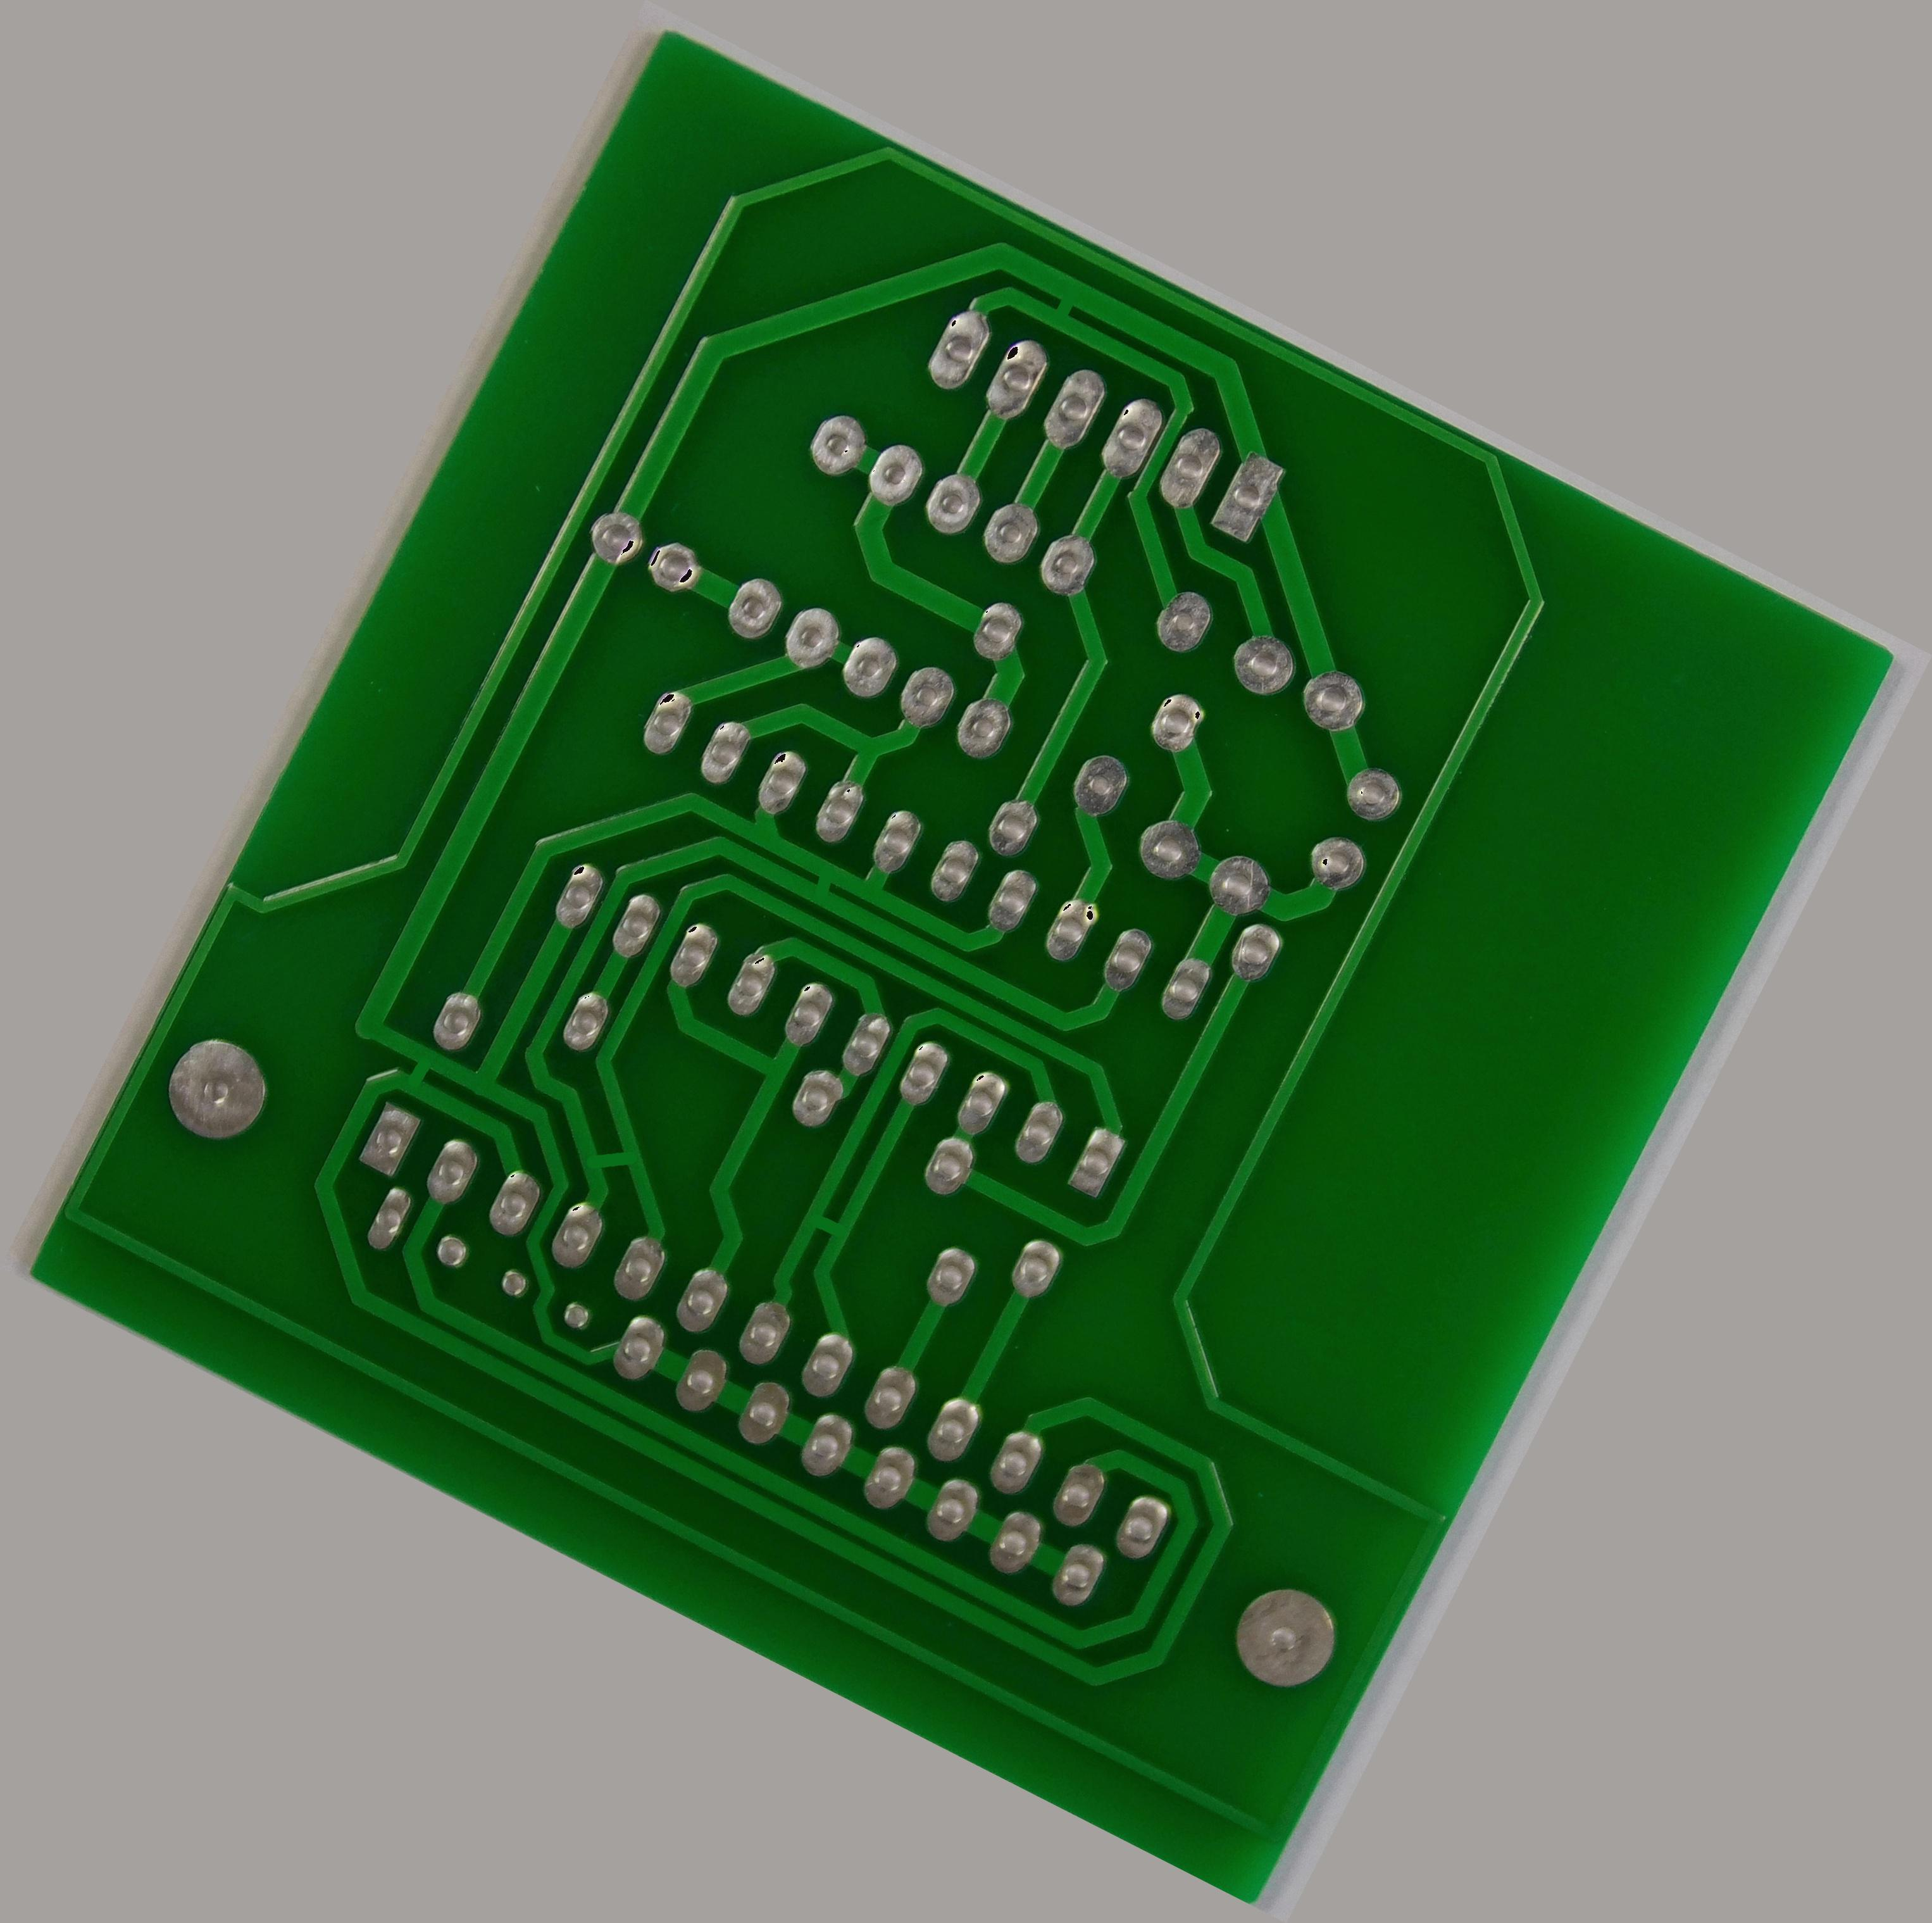short: (564, 1116, 659, 1197), (1021, 257, 1104, 349), (377, 1028, 456, 1113), (787, 1196, 859, 1259), (791, 847, 852, 912)
